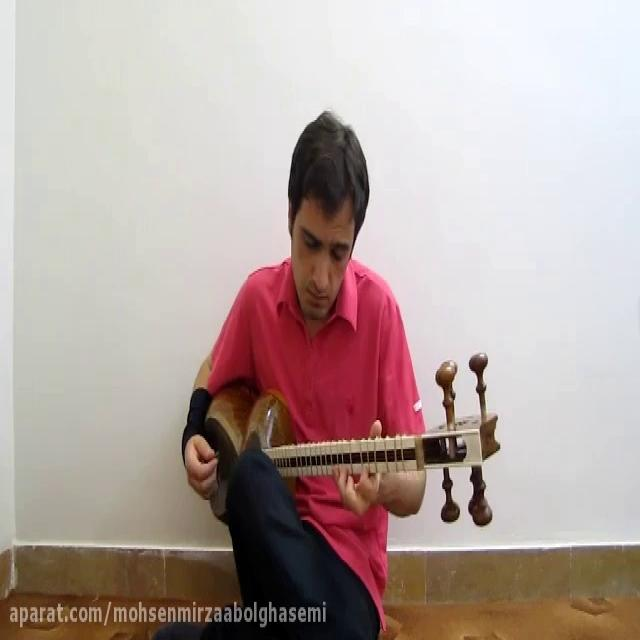Setar: (191, 343, 512, 545)
